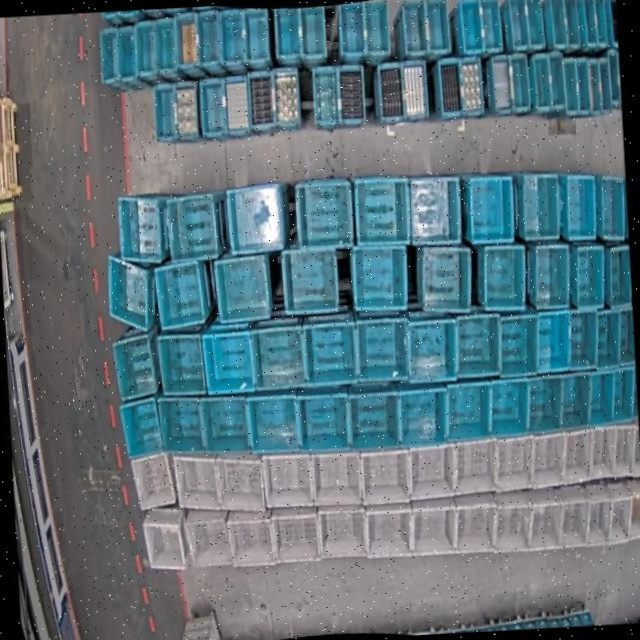Box: (212, 252, 274, 324), (351, 244, 411, 314), (355, 175, 413, 247), (418, 241, 474, 315), (295, 179, 354, 248), (226, 184, 285, 253), (167, 192, 222, 266), (282, 245, 340, 315), (106, 249, 153, 333), (154, 258, 209, 329), (115, 192, 168, 264), (155, 328, 208, 400), (252, 323, 308, 391), (355, 317, 413, 381), (202, 329, 258, 395), (348, 384, 402, 452), (303, 320, 360, 384), (297, 390, 352, 455), (410, 176, 462, 244), (156, 391, 209, 456), (409, 316, 459, 383), (249, 392, 302, 455), (172, 446, 224, 510), (112, 331, 160, 400), (453, 313, 503, 379), (480, 243, 528, 311), (217, 448, 266, 514), (398, 383, 450, 445), (202, 392, 254, 454), (470, 174, 516, 244), (263, 449, 316, 508), (226, 508, 278, 568), (119, 393, 166, 458), (184, 508, 233, 570), (362, 446, 413, 505), (271, 505, 321, 565), (447, 381, 495, 443), (497, 310, 542, 376), (317, 505, 368, 563), (313, 450, 363, 509), (130, 449, 178, 510), (411, 498, 458, 558), (411, 440, 458, 499), (454, 494, 499, 554), (366, 506, 415, 561), (493, 490, 535, 554), (521, 171, 561, 238), (144, 507, 186, 570), (532, 244, 571, 310), (455, 438, 499, 496), (536, 307, 574, 371), (493, 434, 537, 489), (529, 432, 571, 487), (490, 380, 531, 436), (573, 243, 607, 310), (527, 376, 566, 433), (564, 174, 597, 239), (558, 484, 592, 547), (530, 488, 564, 550), (562, 426, 597, 483), (599, 172, 628, 240), (560, 372, 594, 430), (587, 483, 617, 546), (569, 311, 601, 369), (200, 74, 228, 139), (175, 80, 203, 145), (588, 371, 619, 429), (274, 67, 302, 130), (595, 309, 625, 367), (607, 481, 635, 543), (339, 63, 366, 126), (243, 5, 272, 63), (313, 65, 340, 127), (610, 422, 639, 479), (402, 59, 430, 118), (379, 64, 407, 123), (402, 0, 432, 54), (439, 57, 465, 119), (589, 427, 620, 479), (608, 245, 633, 309), (225, 75, 251, 136), (154, 80, 180, 141), (299, 6, 329, 58), (248, 70, 274, 130), (461, 55, 486, 116), (364, 0, 392, 54), (508, 50, 532, 113), (220, 6, 246, 64), (340, 2, 367, 57), (174, 12, 201, 67), (426, 0, 453, 52), (275, 6, 302, 58), (197, 9, 222, 65), (490, 54, 513, 114), (613, 366, 638, 421), (461, 0, 487, 52), (155, 17, 179, 72), (480, 0, 505, 51), (98, 26, 119, 83), (548, 49, 567, 112), (135, 20, 157, 74), (118, 26, 139, 81), (524, 0, 547, 48), (618, 306, 637, 364), (509, 0, 531, 50), (562, 56, 580, 117), (533, 51, 551, 110), (549, 0, 570, 49), (607, 48, 623, 109), (562, 0, 582, 48), (586, 55, 601, 116), (576, 56, 590, 116), (582, 0, 600, 46), (597, 59, 612, 114), (593, 0, 610, 47), (627, 477, 640, 538), (608, 0, 621, 47)
